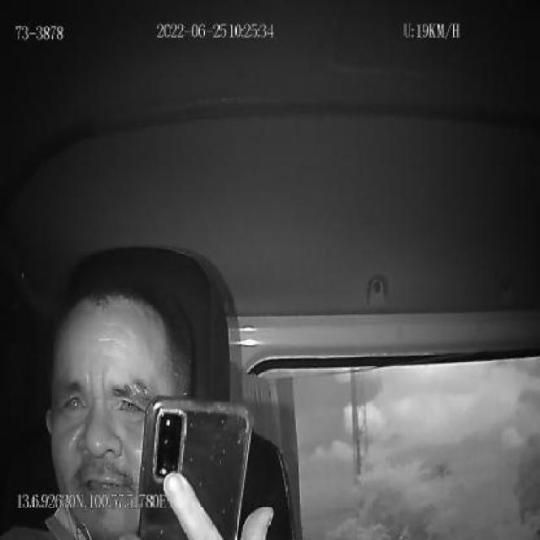phone: (136, 397, 252, 540)
